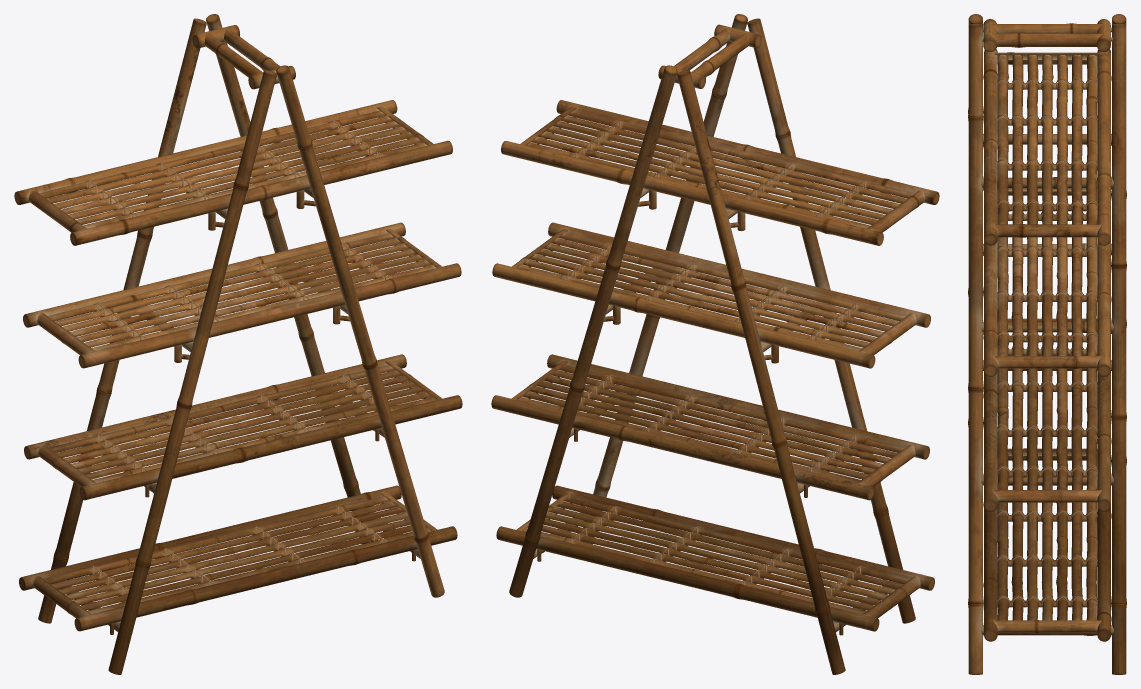
3 views of the same model, side by side, from view 1: azimuth 30°, elevation 25°; view 2: azimuth 150°, elevation 25°; view 3: azimuth 270°, elevation 25° (orthographic).
Visible parts, largest first — view 1: Object013.001; view 2: Object013.001; view 3: Object013.001.
Part boxes in pixels (<box>): Object013.001: <box>14,14,462,674</box>; Object013.001: <box>491,14,939,674</box>; Object013.001: <box>968,14,1126,674</box>.
Bounding box in the file's own units: 1 × 1.4 × 0.35.
2 materials, 2 textured.
